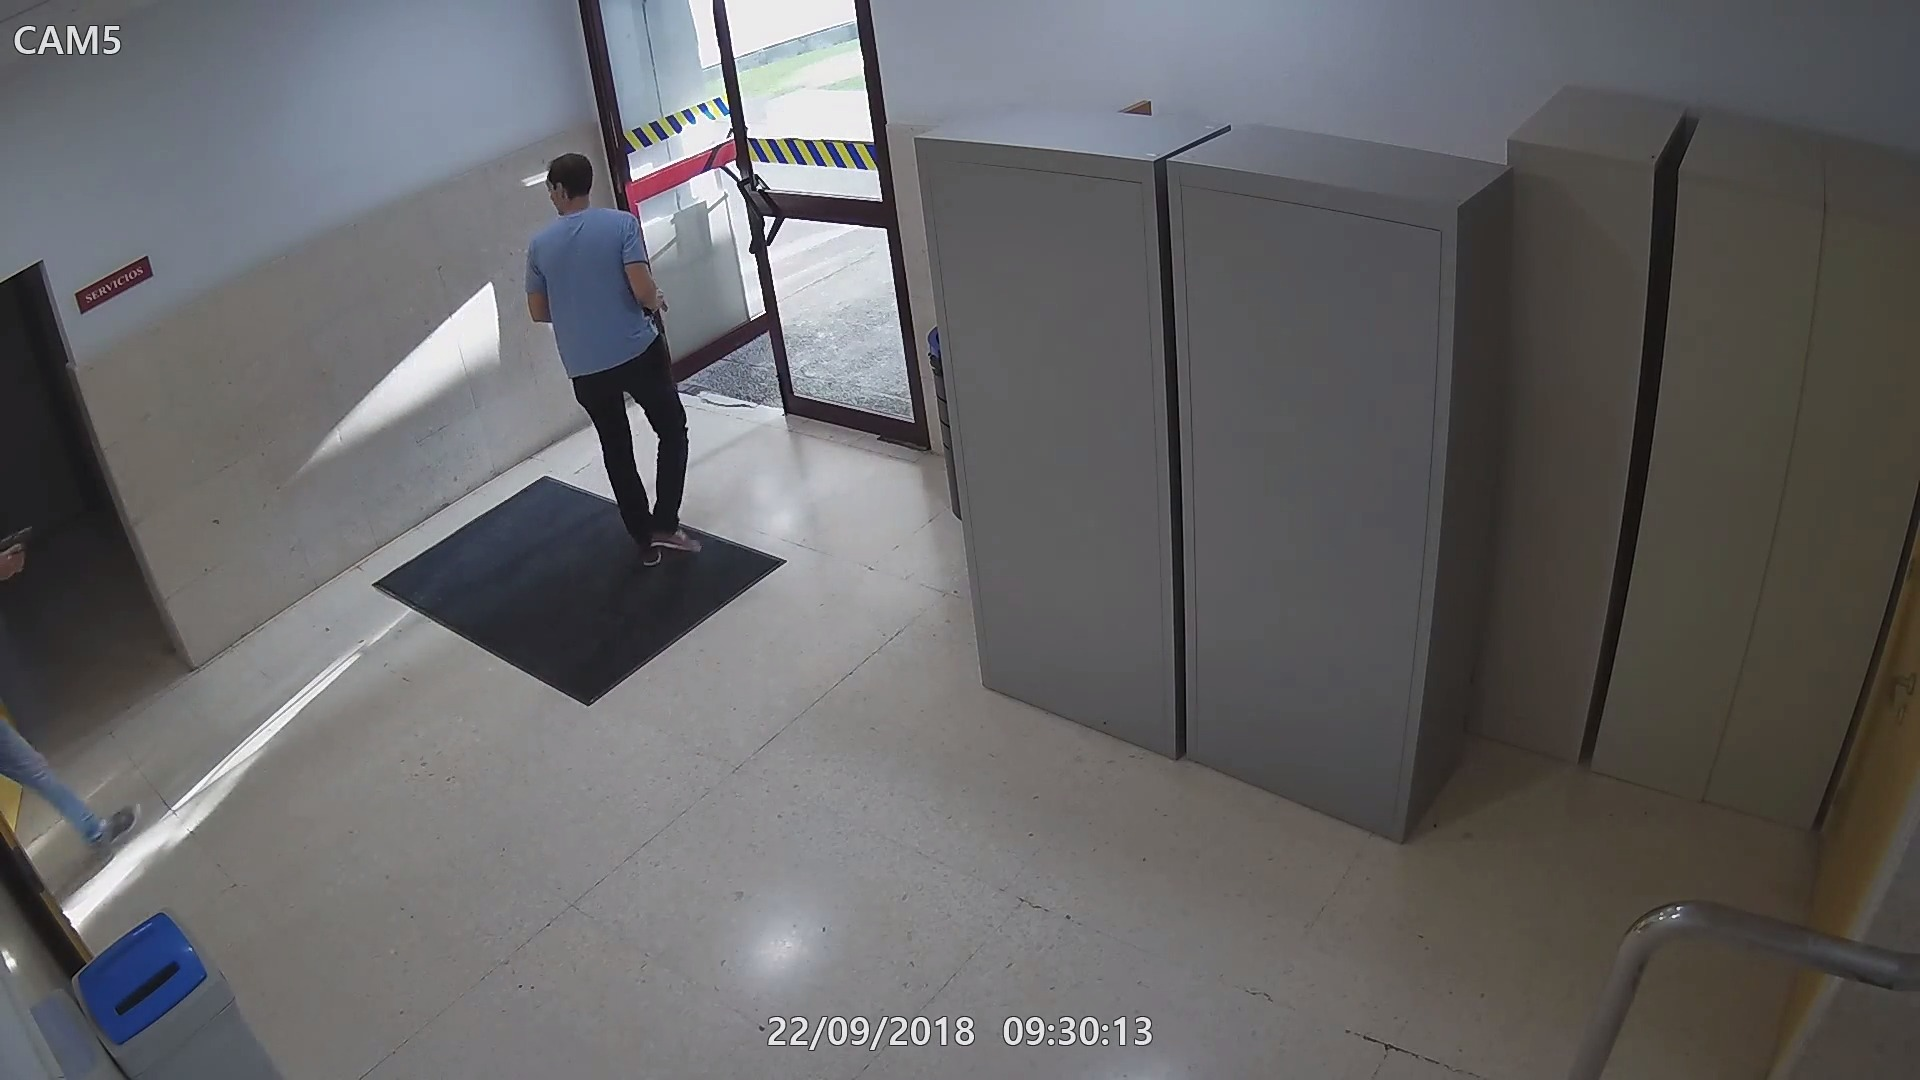Handgun: (0, 520, 40, 582)
